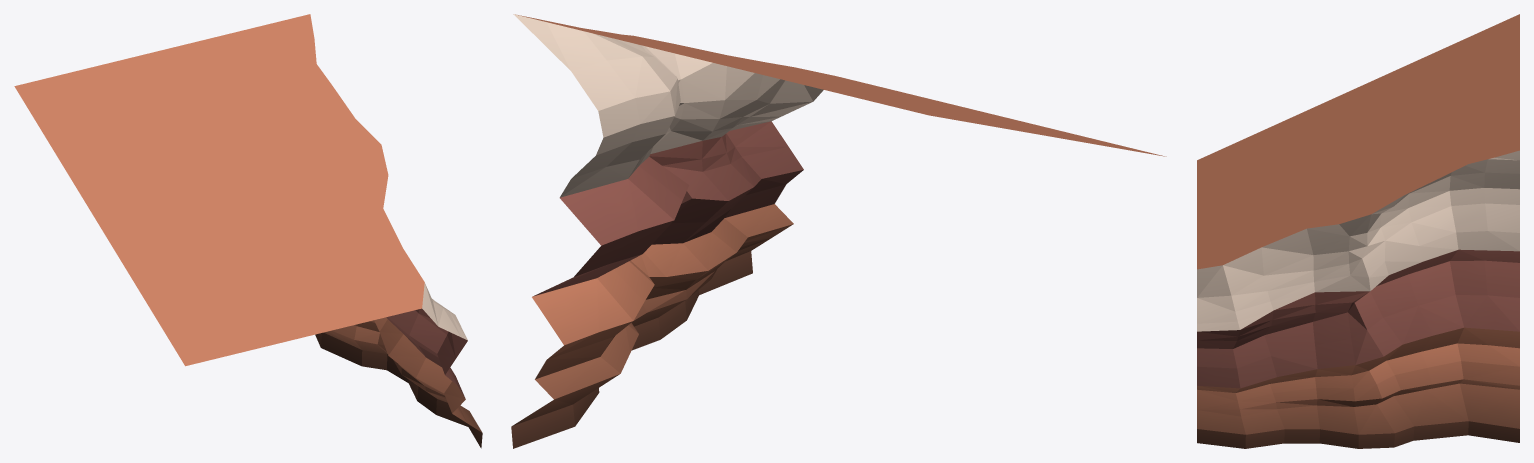
The model's file is uprampr.fbx.
3 renders of one model, left to right at view 1: azimuth 30°, elevation 25°; view 2: azimuth 150°, elevation 25°; view 3: azimuth 270°, elevation 25°, orthographic. The views are drawn at different scales.
Parts seen in each view (by area): view 1: uprampr; view 2: uprampr; view 3: uprampr.
Part boxes in pixels (x1=…): uprampr: x1=14, y1=14, x2=482, y2=448; uprampr: x1=511, y1=14, x2=1166, y2=448; uprampr: x1=1197, y1=14, x2=1519, y2=448.
Size of the model in its own units: 105 by 100 by 100.
